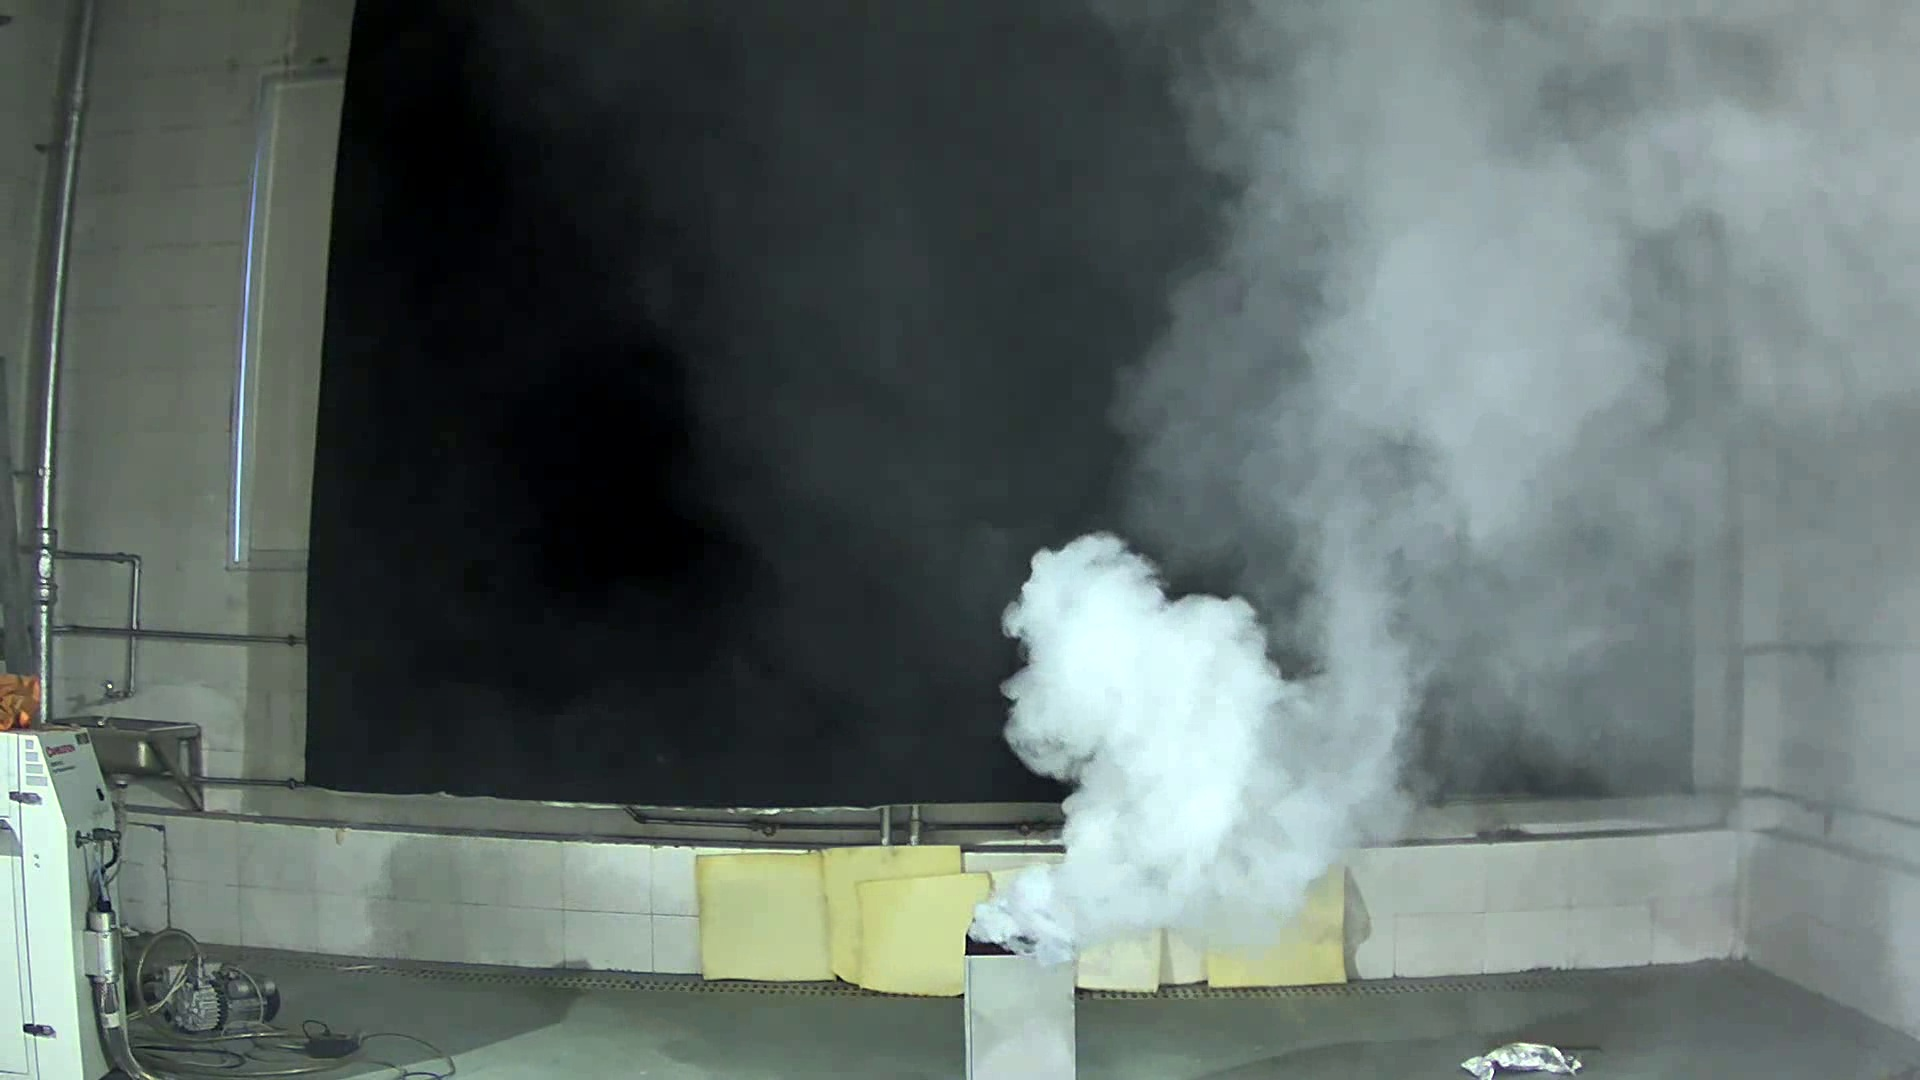smoke: (928, 531, 1425, 949)
